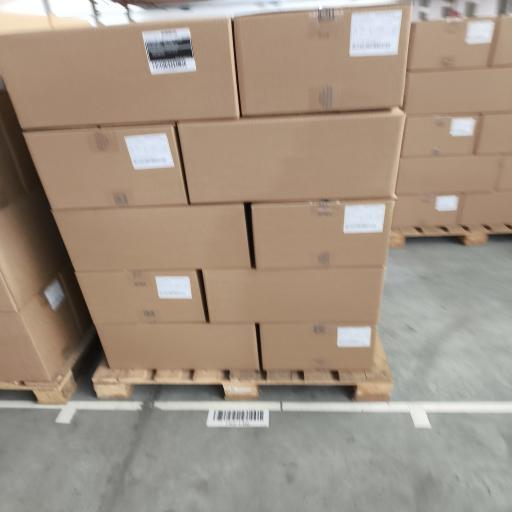pallet: (93, 337, 392, 401), (0, 327, 100, 404), (390, 224, 511, 247)
